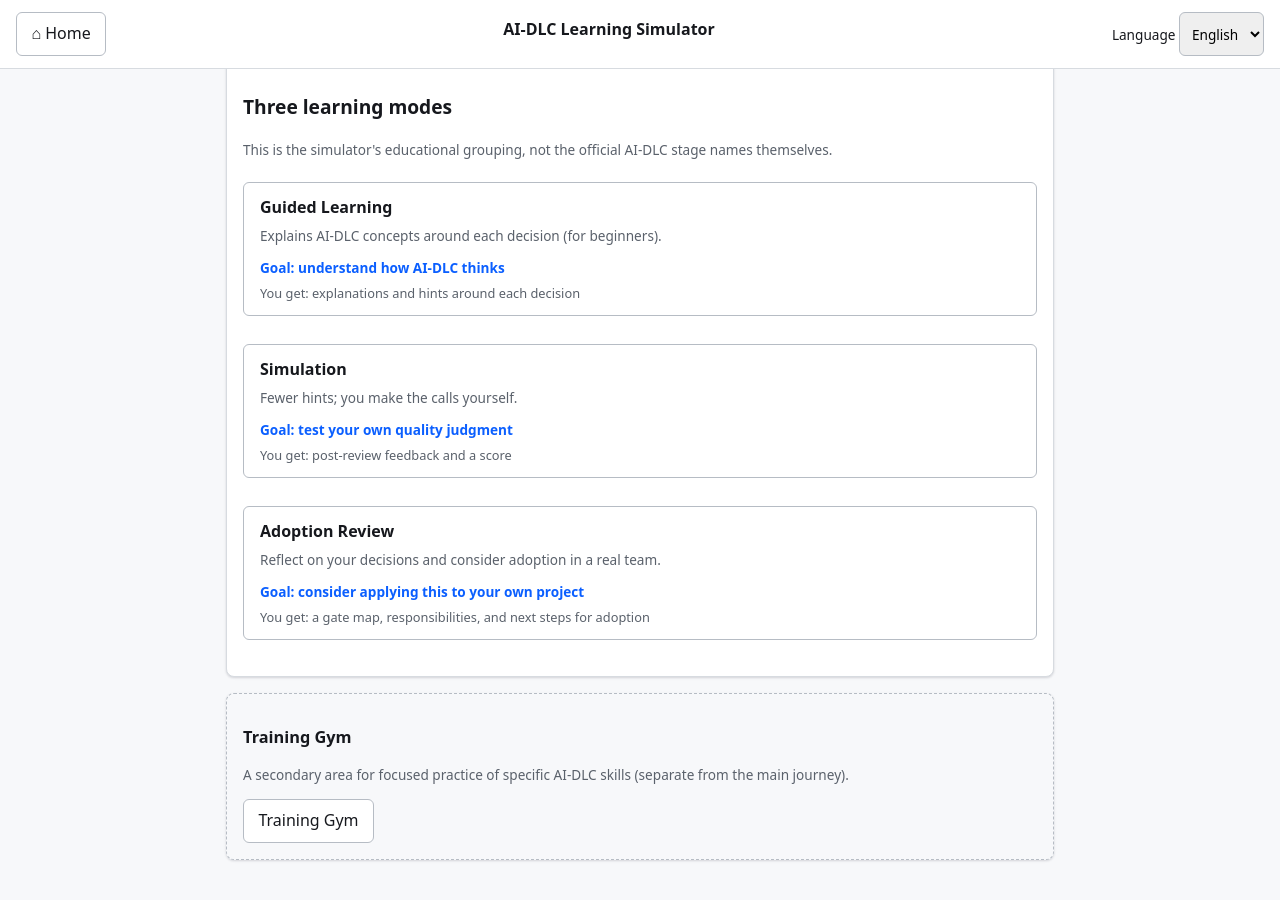
Test: P1-1 Adoption answer leakage › Adoption pre-submit shows no answer-class cue
(page scrolled)
What coordinates should you click on to do the following:
click the button with test id "journey-start-adoption"
I would click on:
 (327, 531)
Its box is [243, 506, 1037, 640].
(page scrolled)
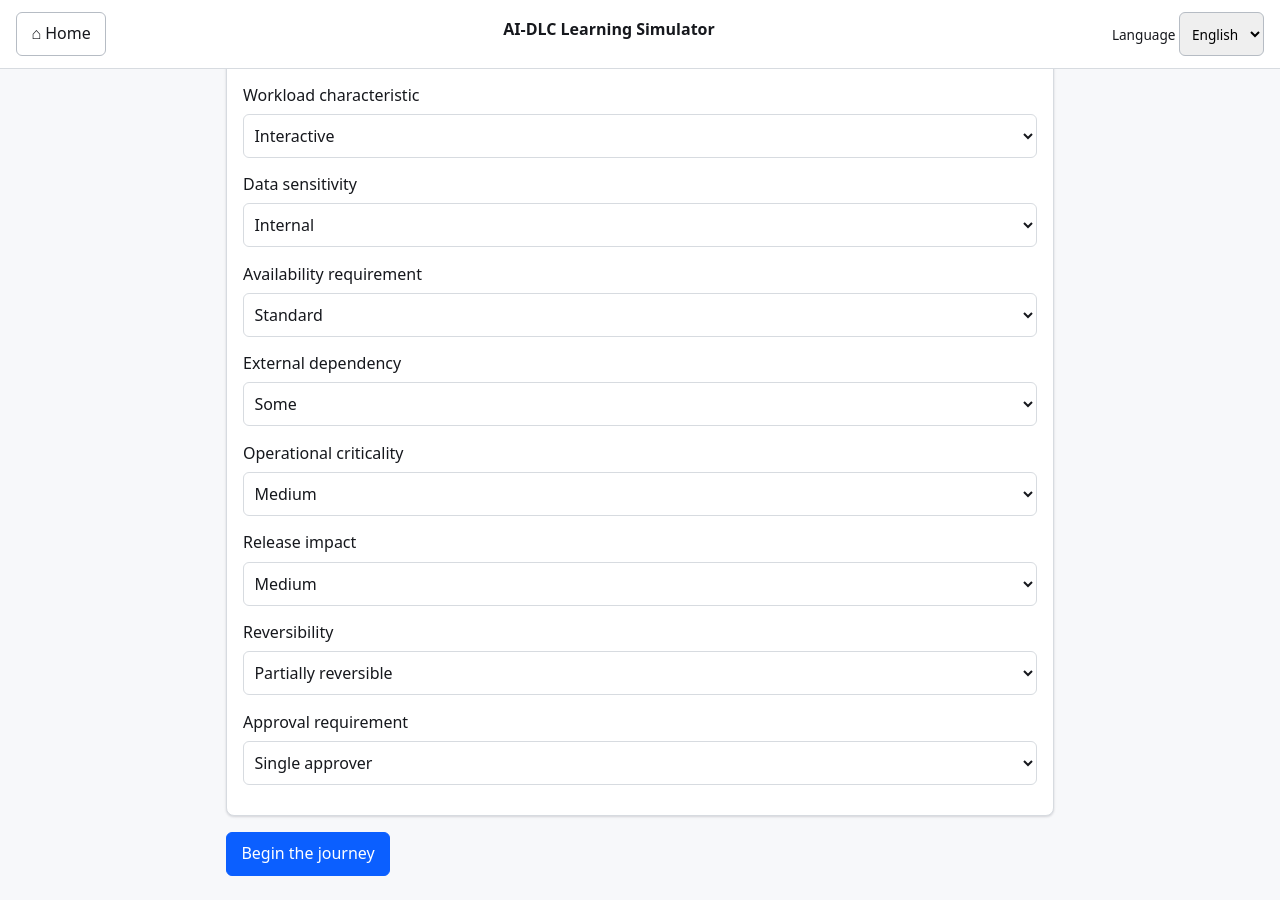
What coordinates should you click on to do the following:
click the button with test id "setup-begin"
I would click on:
 (308, 854)
Its box is [226, 832, 390, 876].
(page scrolled)
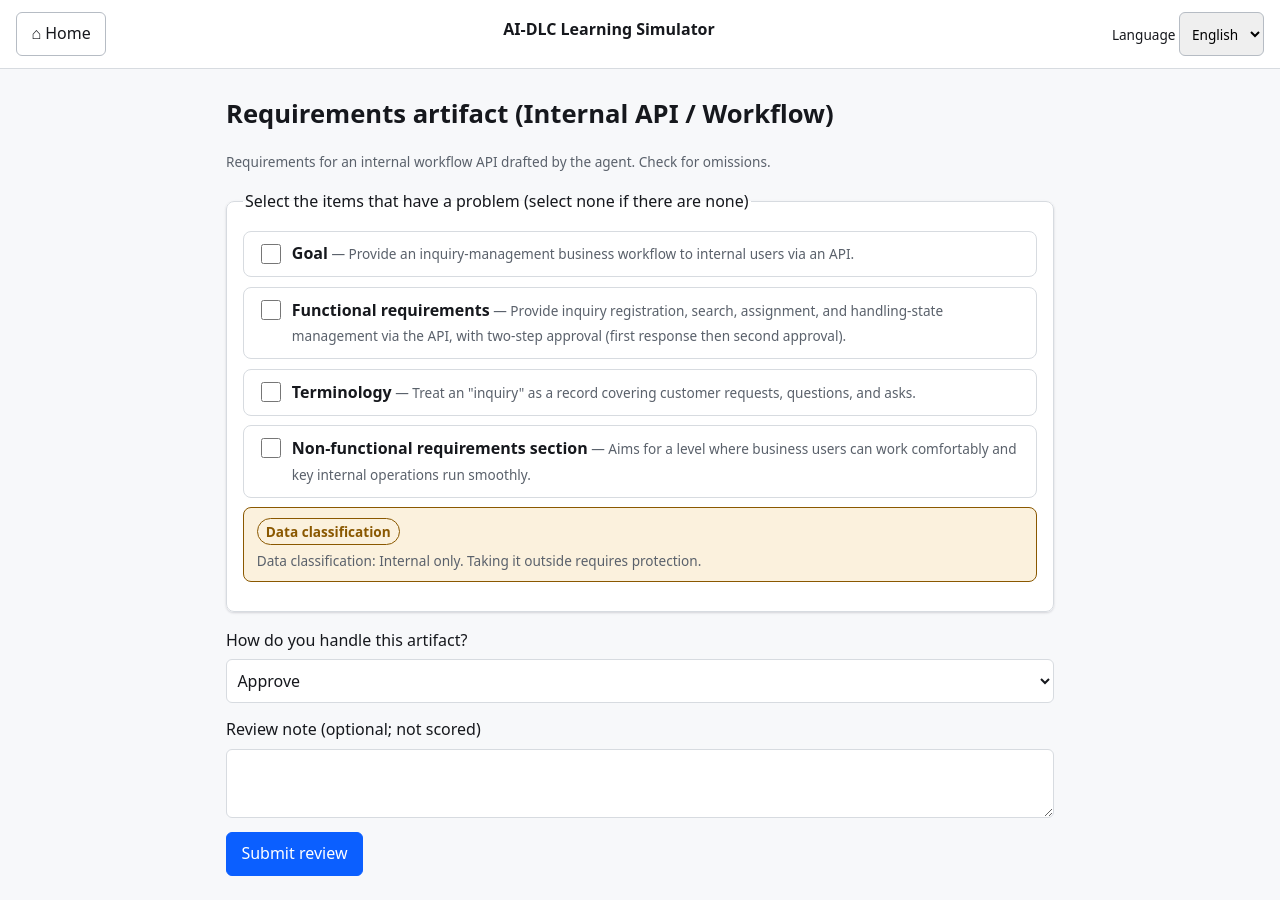
Expected: the button with test id "review-submit" is shown, [226, 832, 363, 876]
